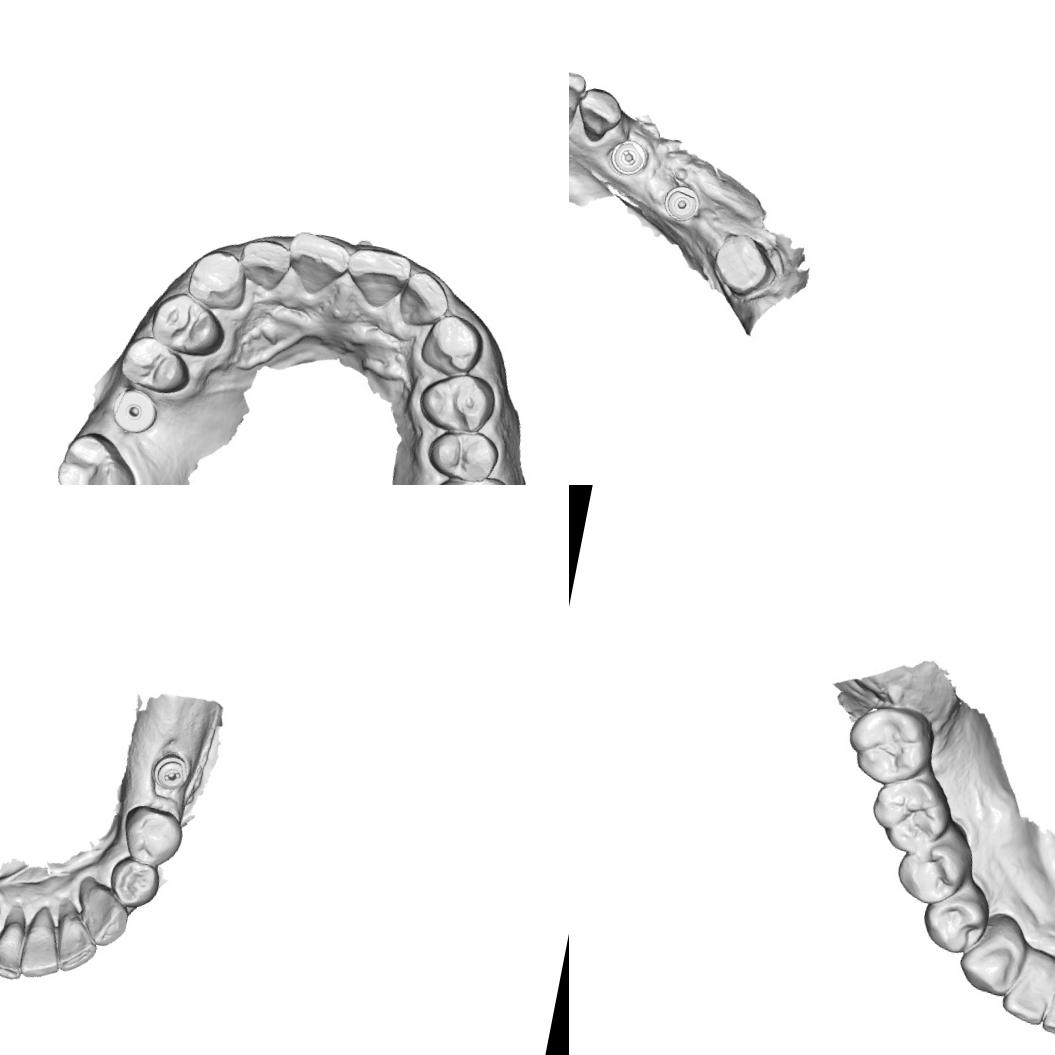canine: (954, 914, 1031, 1000), (414, 307, 487, 382), (180, 243, 250, 314), (73, 881, 134, 951), (572, 84, 626, 146)
crown: (706, 227, 786, 306)
implant: (106, 382, 162, 436), (660, 182, 702, 224)
implant_minus: (148, 748, 194, 794), (606, 135, 652, 179)
incisor: (278, 226, 355, 301), (343, 241, 412, 312), (995, 951, 1055, 1027), (392, 266, 456, 334), (48, 910, 102, 978), (230, 233, 292, 292), (15, 918, 66, 982), (0, 914, 30, 981), (1038, 968, 1055, 1043), (569, 65, 589, 128)
molar: (839, 695, 940, 793), (862, 770, 954, 862), (49, 425, 143, 485), (415, 464, 521, 485)
premolar: (890, 829, 974, 911), (413, 363, 501, 439), (142, 286, 230, 362), (916, 880, 992, 958), (115, 331, 195, 399), (422, 420, 503, 485), (116, 800, 188, 871), (103, 854, 163, 913)
